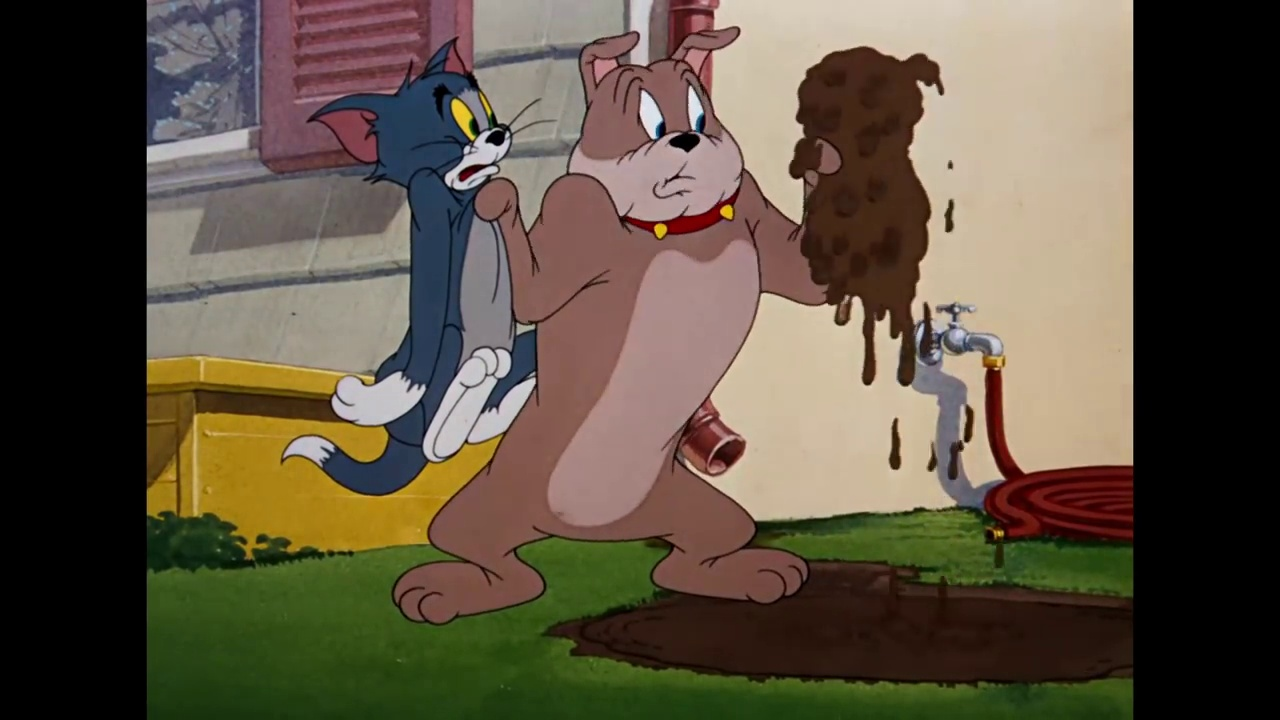spike: (562, 27, 761, 241)
tom: (307, 37, 558, 211)
